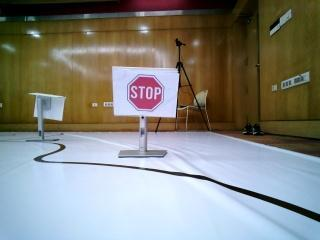stop: (115, 70, 173, 115)
